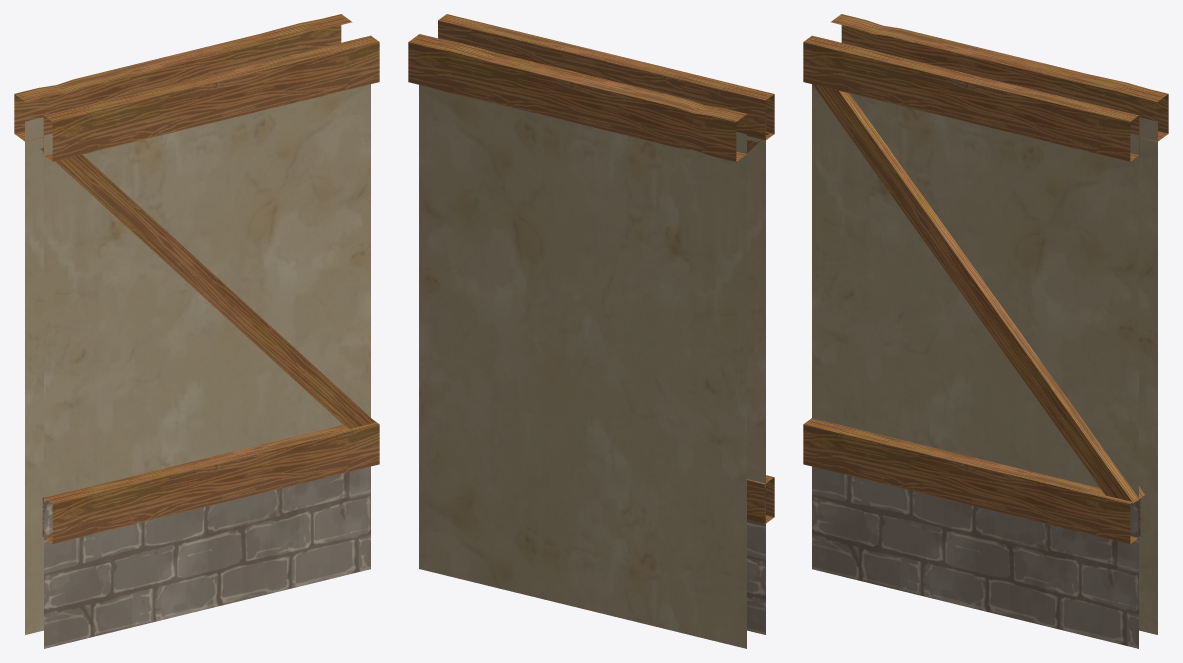
File: Wall_Plaster_Straight_L.glb
The picture shows the model from 3 angles, left to right: view 1: azimuth 30°, elevation 25°; view 2: azimuth 150°, elevation 25°; view 3: azimuth 330°, elevation 25°; orthographic projection.
Visible parts, largest first — view 1: Wall_Plaster_Straight_L; view 2: Wall_Plaster_Straight_L; view 3: Wall_Plaster_Straight_L.
Part boxes in pixels (<box>): Wall_Plaster_Straight_L: <box>14,14,379,648</box>; Wall_Plaster_Straight_L: <box>408,14,774,648</box>; Wall_Plaster_Straight_L: <box>803,14,1168,648</box>.
Bounding box in the file's own units: 2 × 3.12 × 0.4064.
3 materials, 3 textured.
